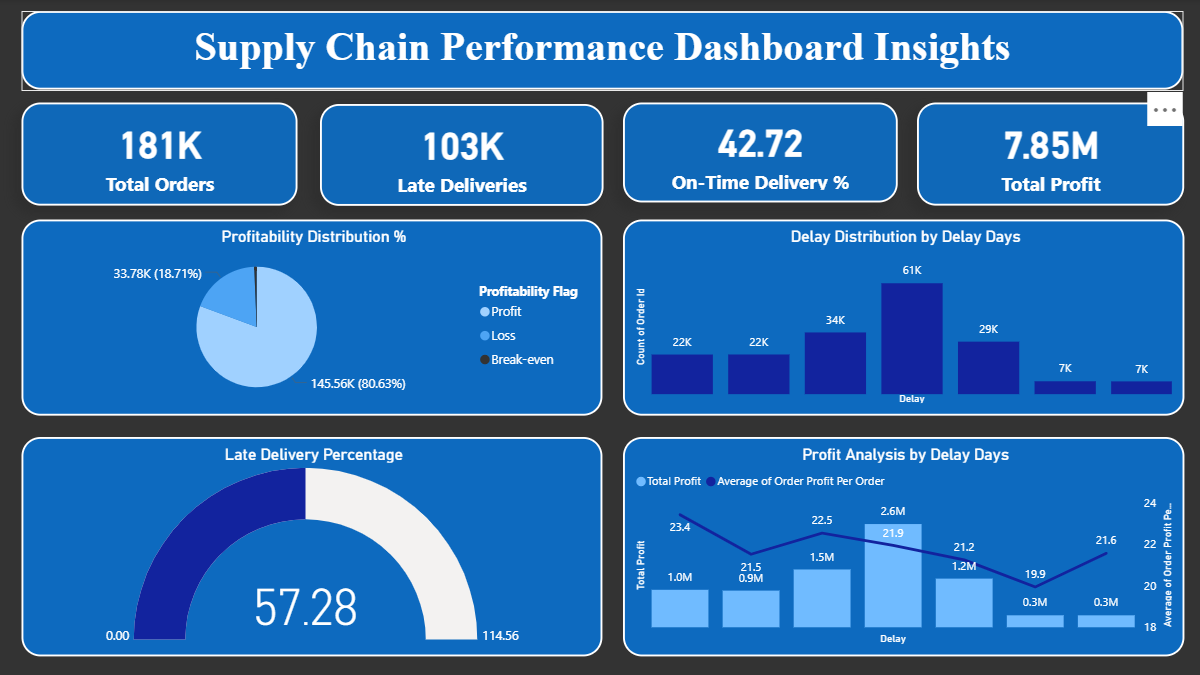

This screenshot's page, from the dashboard's own definition file:
{"tool":"powerbi","page":{"name":"Executive Performance","canvas":[1280,720],"ordinal":0},"visuals":[{"type":"card","fields":{"Values":["DataCoSupplyChainDataset.Total Orders"]},"box":[24.6,109.6,292.9,109.6],"z":0},{"type":"card","fields":{"Values":["DataCoSupplyChainDataset.Late Deliveries"]},"box":[340.2,111.5,300.5,107.7],"z":1000},{"type":"card","fields":{"Values":["DataCoSupplyChainDataset.On-Time Delivery %"]},"box":[661.4,109.6,291,105.8],"z":2000},{"type":"card","fields":{"Values":["DataCoSupplyChainDataset.Total Profit"]},"box":[973.2,109.6,283.5,109.6],"z":3000},{"type":"textbox","box":[24.6,13.2,1232.1,83.2],"z":4000},{"type":"pieChart","title":"Profitability Distribution %","fields":{"Category":["DataCoSupplyChainDataset.Profitability Flag"],"Y":["CountNonNull(DataCoSupplyChainDataset.Profitability Flag)"]},"box":[24.6,234.3,616.1,207.9],"z":5000},{"type":"gauge","title":"Late Delivery Percentage","fields":{"Y":["DataCoSupplyChainDataset.Late Delivery %"]},"box":[24.6,464.9,616.1,232.4],"z":6000},{"type":"clusteredColumnChart","title":"Delay Distribution by Delay Days","fields":{"Category":["DataCoSupplyChainDataset.Delay"],"Y":["CountNonNull(DataCoSupplyChainDataset.Order Id)"]},"box":[661.4,234.3,595.3,207.9],"z":7000},{"type":"lineClusteredColumnComboChart","title":"Profit Analysis by Delay Days","fields":{"Category":["DataCoSupplyChainDataset.Delay"],"Y":["DataCoSupplyChainDataset.Total Profit"],"Y2":["Avg(DataCoSupplyChainDataset.Order Profit Per Order)"]},"box":[661.4,464.9,595.3,232.4],"z":8000}]}

Visuals, with their boxes in screenshot pixels (x1, y1, x2, y2), scaled from the page's 1280x720 canvas onto the 1200x675 screenshot:
card - DataCoSupplyChainDataset.Total Orders: select_region(23, 103, 298, 206)
card - DataCoSupplyChainDataset.Late Deliveries: select_region(319, 105, 601, 206)
card - DataCoSupplyChainDataset.On-Time Delivery %: select_region(620, 103, 893, 202)
card - DataCoSupplyChainDataset.Total Profit: select_region(912, 103, 1178, 206)
textbox: select_region(23, 12, 1178, 90)
"Profitability Distribution %" pieChart: select_region(23, 220, 601, 415)
"Late Delivery Percentage" gauge: select_region(23, 436, 601, 654)
"Delay Distribution by Delay Days" clusteredColumnChart: select_region(620, 220, 1178, 415)
"Profit Analysis by Delay Days" lineClusteredColumnComboChart: select_region(620, 436, 1178, 654)
